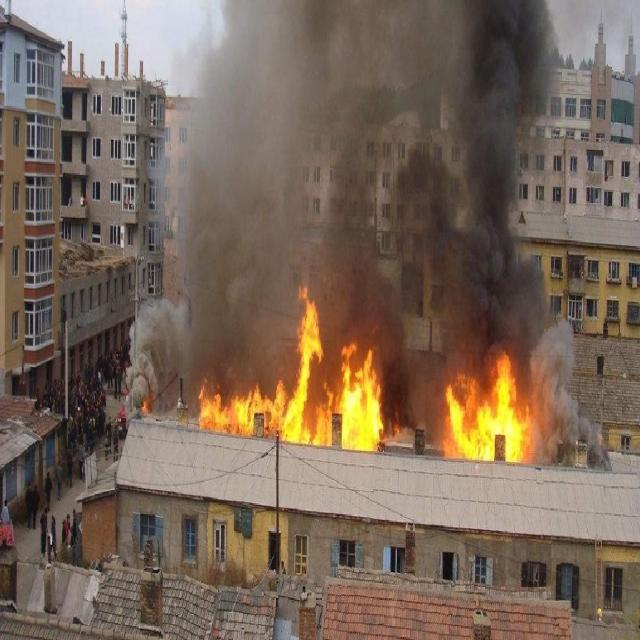Fire: (197, 285, 387, 453), (444, 349, 534, 466)
Smoke: (161, 1, 560, 282), (120, 292, 194, 434), (386, 286, 442, 456), (533, 317, 583, 468), (440, 288, 548, 346)
